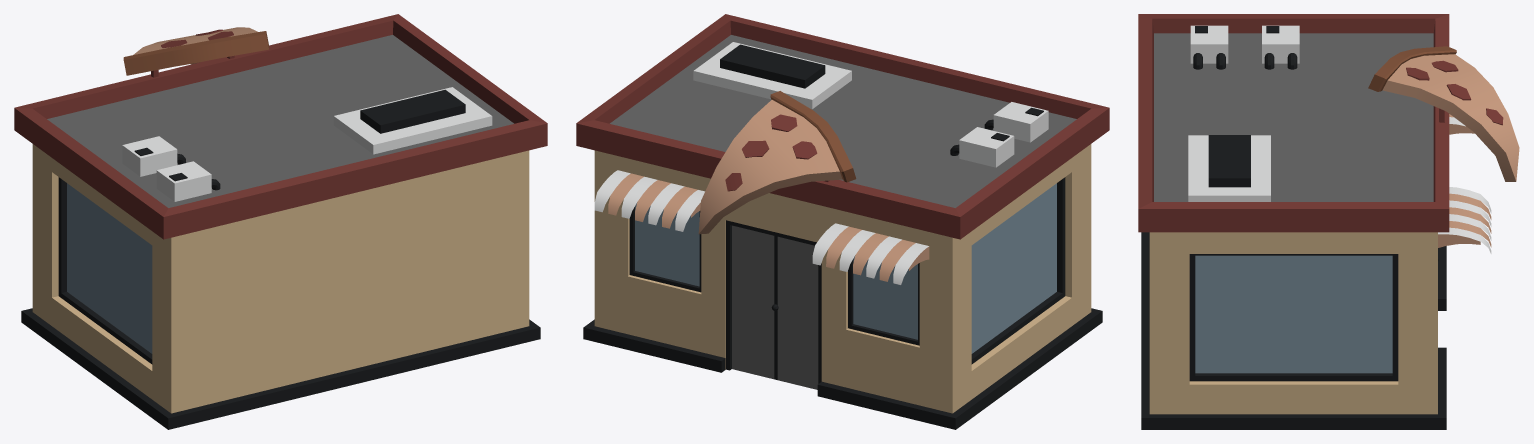
Rendered from pizza.fbx.
3 views of the same model, side by side, from view 1: azimuth 30°, elevation 25°; view 2: azimuth 150°, elevation 25°; view 3: azimuth 270°, elevation 25° (orthographic). The views are drawn at different scales.
Visible parts, largest first — view 1: Pizza; view 2: Pizza; view 3: Pizza.
Boxes of the visible parts, x1,y1,x2,y2 form: Pizza: (14,14,547,429); Pizza: (576,14,1109,429); Pizza: (1138,14,1519,429).
Size of the model in its own units: 1179 by 770 by 973.
